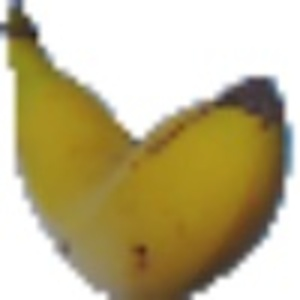banana: (3, 3, 298, 297)
